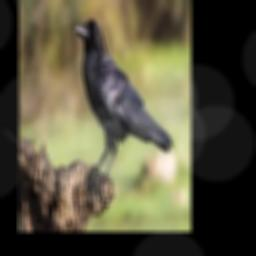Crow: (74, 18, 173, 191)
